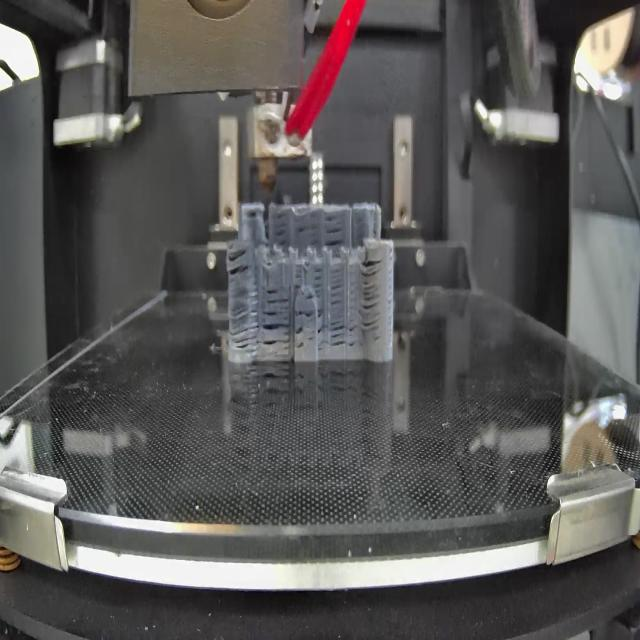cracks: (231, 291, 259, 351), (362, 258, 381, 334), (261, 312, 291, 354), (323, 212, 348, 250), (328, 320, 361, 348), (228, 246, 253, 280), (330, 263, 345, 309), (297, 217, 319, 246), (275, 213, 291, 246), (265, 286, 289, 304), (296, 306, 322, 320), (313, 266, 325, 292), (295, 324, 306, 349), (315, 324, 325, 350), (295, 263, 304, 289), (245, 212, 263, 221), (304, 293, 316, 303)
